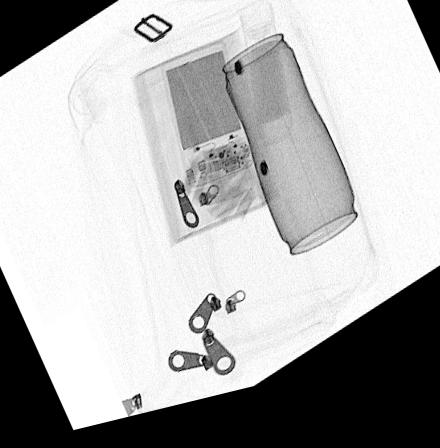Powerbank: (161, 53, 256, 200)
